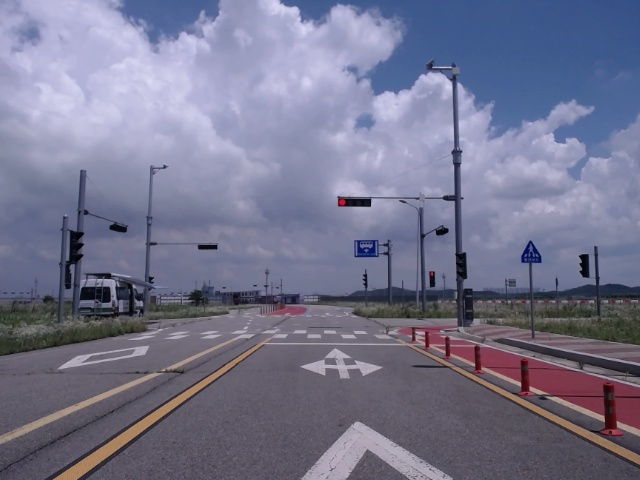red_4: (338, 199, 371, 207)
